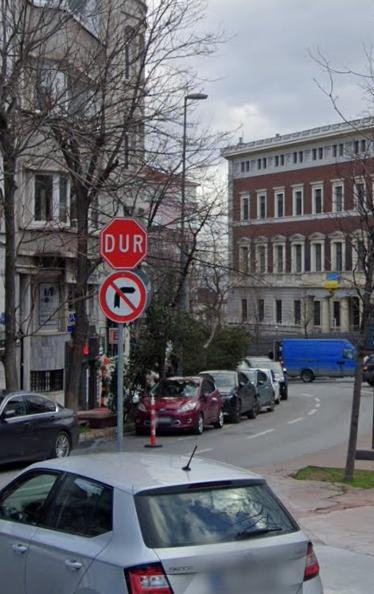rightturnsareforbidden: (100, 271, 145, 314)
stop: (101, 219, 147, 265)
